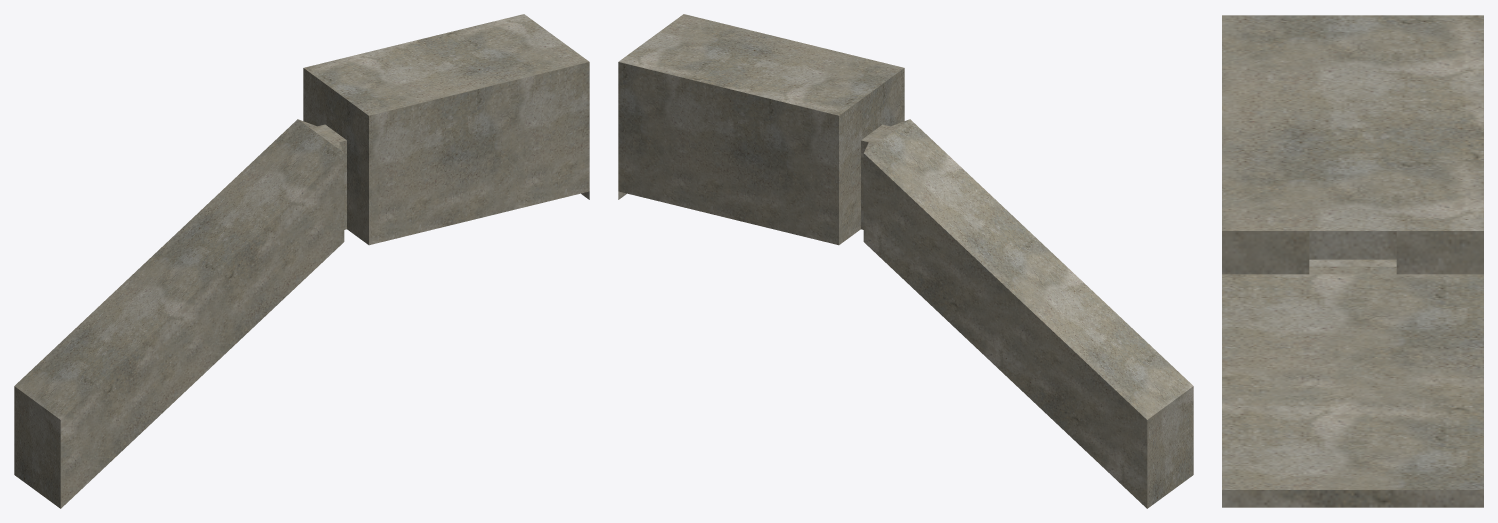
File: buildingTransitionmesh.fbx
The picture shows the model from 3 angles, left to right: view 1: azimuth 30°, elevation 25°; view 2: azimuth 150°, elevation 25°; view 3: azimuth 270°, elevation 25°; orthographic projection. The views are drawn at different scales.
Visible parts, largest first — view 1: Cube.003; view 2: Cube.003; view 3: Cube.003.
Boxes of the visible parts, x1,y1,x2,y2 form: Cube.003: (14,14,589,508); Cube.003: (618,14,1193,508); Cube.003: (1222,15,1483,507).
Size of the model in its own units: 2749 by 1655 by 600.
